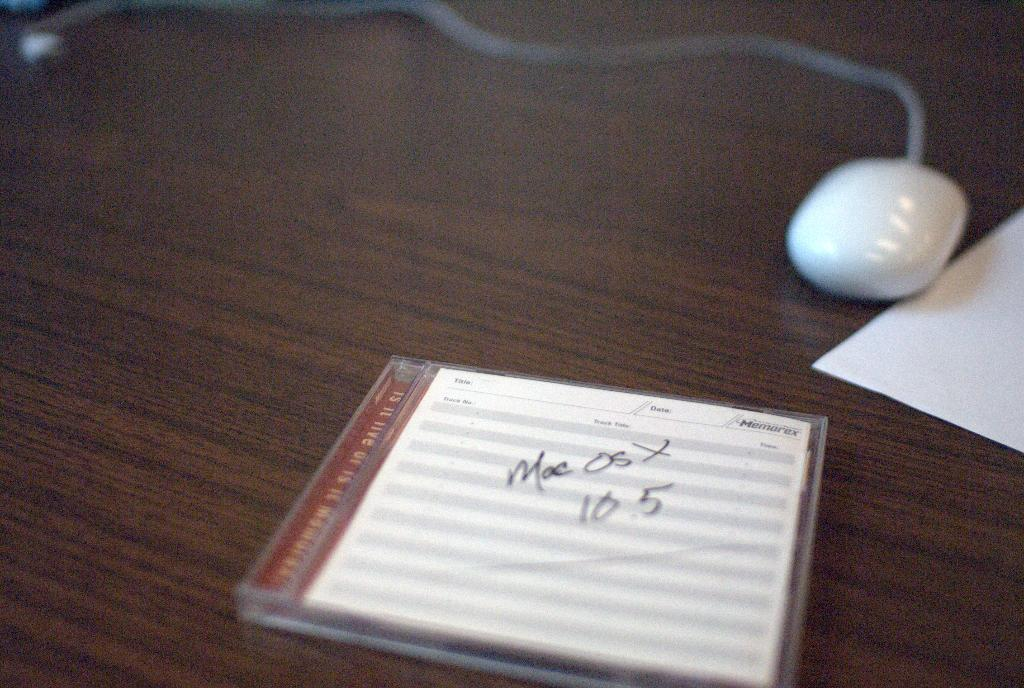Table: (82, 4, 1000, 688)
